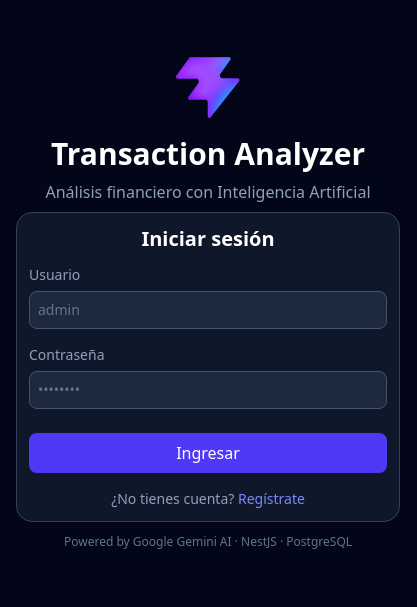
LoginPage › shows error when username has invalid characters
The image size is (417, 607).
In the field with placeholder "admin": [208, 310] box [29,291,387,329], type "juan**"
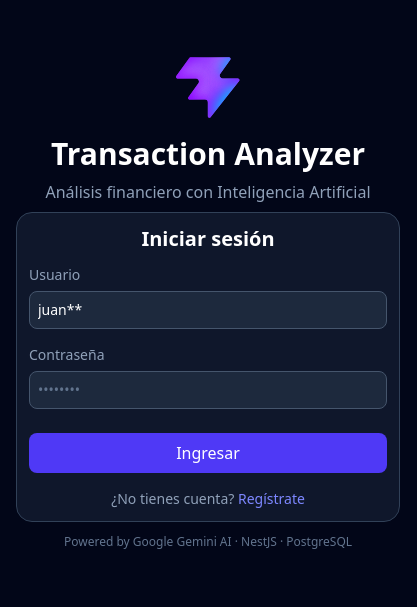
In the password field with placeholder "••••••••": [208, 390] box [29,371,387,409], type "password123"
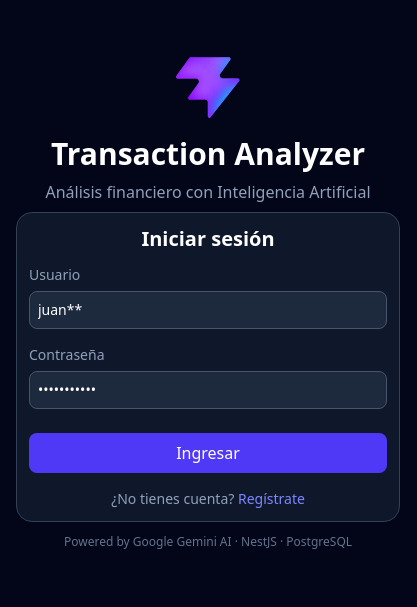
Click the button "Ingresar": [208, 453] box [29,433,387,473]
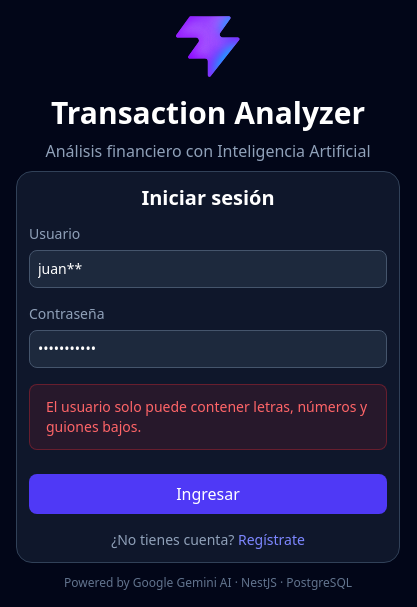
Expected: the text "solo puede contener letras" is shown, [46,397,367,436]
